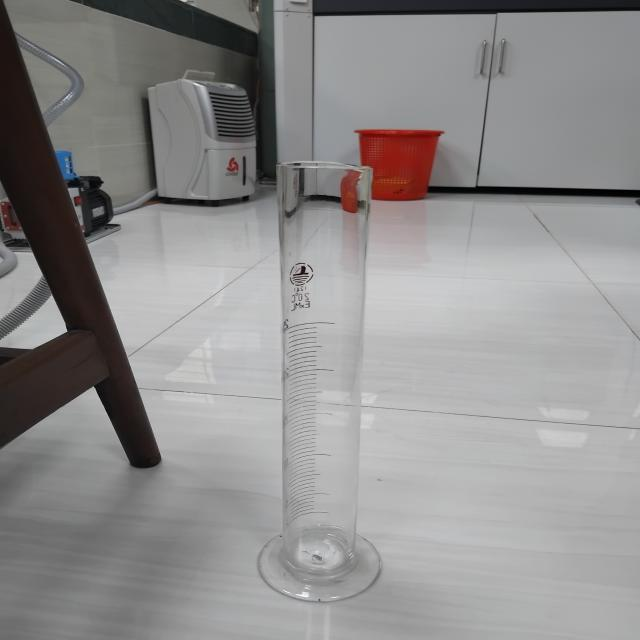Measuring_Cylinder: (209, 103, 430, 618)
